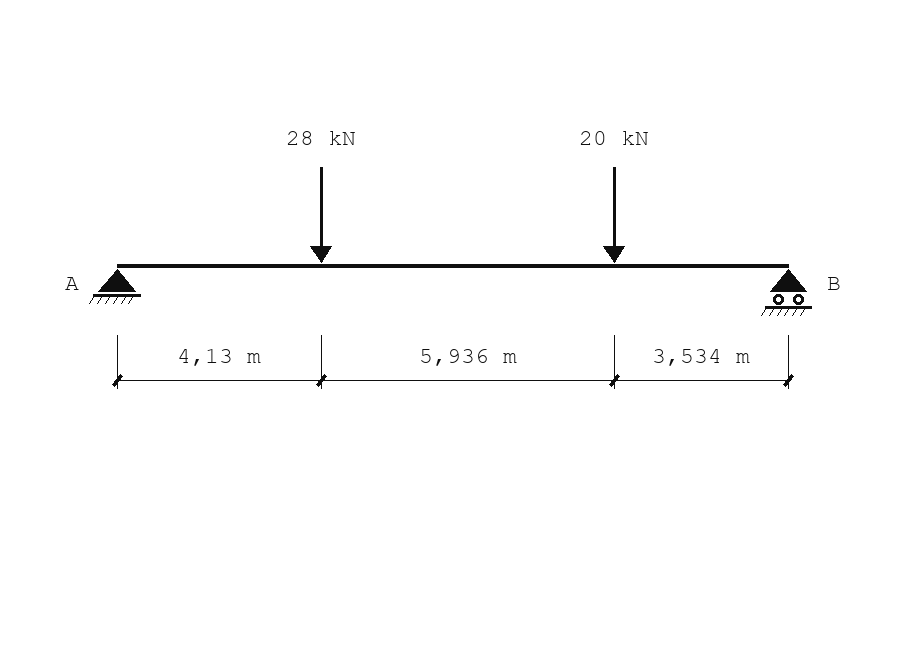pin_support: (89, 269, 141, 304)
point_load: (310, 167, 332, 263), (603, 167, 625, 263)
roller_support: (761, 269, 812, 316)
